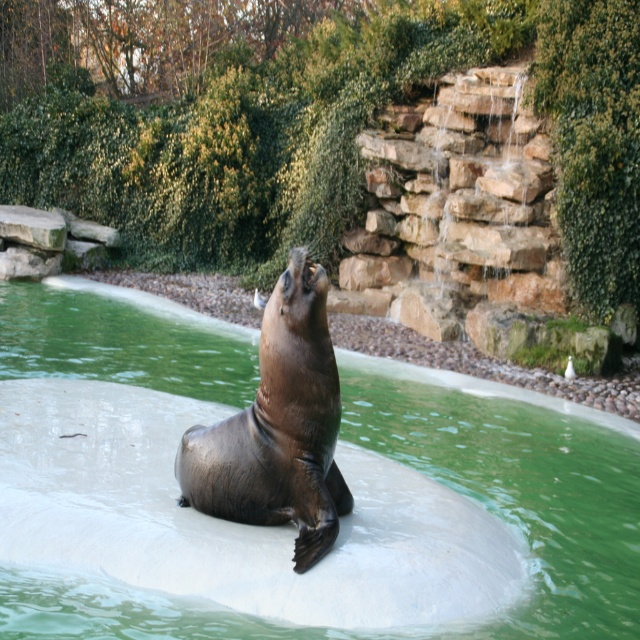Sea lion: (170, 242, 355, 577)
